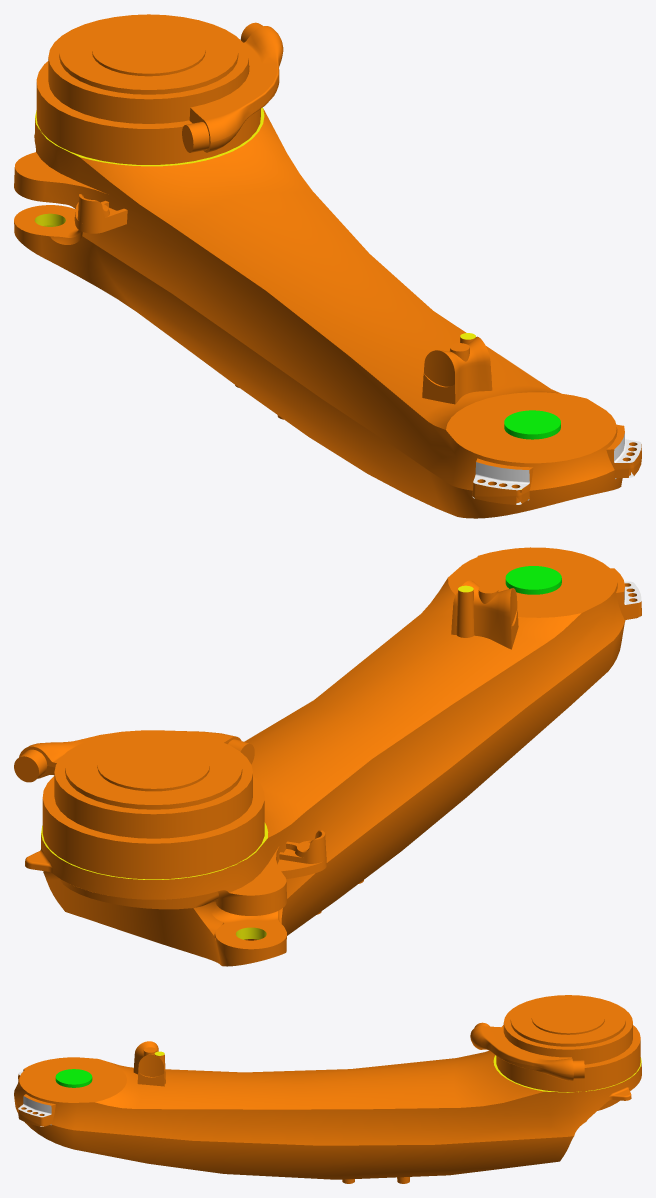
3 views of the same model, one above another, from view 1: azimuth 30°, elevation 25°; view 2: azimuth 150°, elevation 25°; view 3: azimuth 270°, elevation 25° (orthographic). The views are drawn at different scales.
Visible parts, largest first — view 1: COMPOUND091, _ncl1_6, _ncl1_9, _ncl1_3; view 2: COMPOUND091, _ncl1_9, _ncl1_3; view 3: COMPOUND091, _ncl1_9, _ncl1_6, _ncl1_3.
Part boxes in pixels (x1,y1,x2,y2): COMPOUND091: (14,14,641,518); _ncl1_6: (472,433,641,504); _ncl1_9: (504,410,560,439); _ncl1_3: (34,107,475,339); COMPOUND091: (14,547,641,966); _ncl1_9: (505,566,561,594); _ncl1_3: (41,585,473,939); COMPOUND091: (14,995,641,1183); _ncl1_9: (55,1069,92,1087); _ncl1_6: (18,1071,51,1126); _ncl1_3: (154,1051,641,1092).
Size of the model in its own units: 0.5324 by 0.453 by 1.71.
